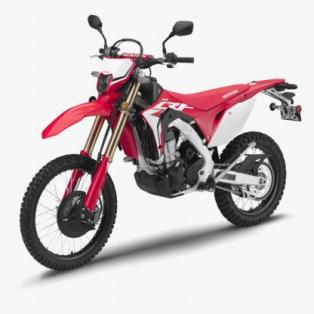Motocicleta: (14, 12, 306, 272)
